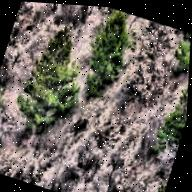boar: (64, 111, 95, 142)
